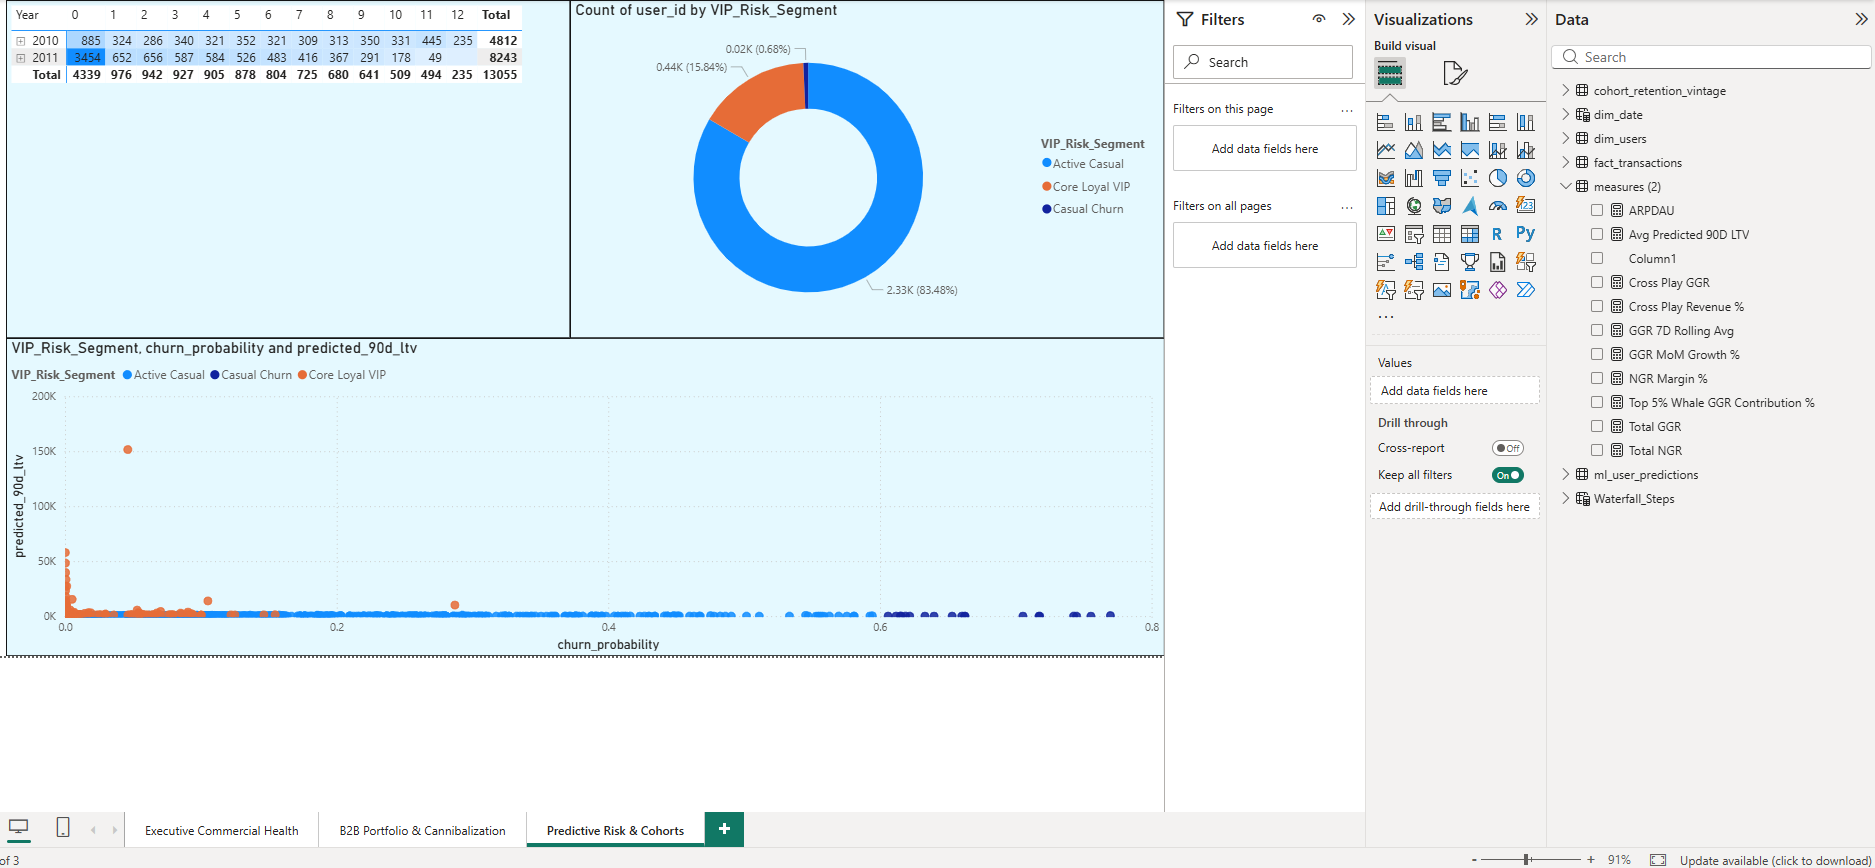

What the dashboard file says about the page in this screenshot:
{"tool":"powerbi","page":{"name":"Predictive Risk & Cohorts","canvas":[1280,720],"ordinal":2},"visuals":[{"type":"pivotTable","fields":{"Rows":["cohort_retention_vintage.cohort_month.Variation.Date Hierarchy.Year","cohort_retention_vintage.cohort_month.Variation.Date Hierarchy.Month","cohort_retention_vintage.cohort_month.Variation.Date Hierarchy.Day"],"Values":["Sum(cohort_retention_vintage.active_users)"],"Columns":["cohort_retention_vintage.life_month"]},"box":[9.8,0,618.9,370.7],"z":0},{"type":"scatterChart","fields":{"X":["ml_user_predictions.churn_probability"],"Y":["ml_user_predictions.predicted_90d_ltv"],"Series":["ml_user_predictions.VIP_Risk_Segment"]},"box":[9.8,370.7,1270.5,349.5],"z":1000},{"type":"donutChart","fields":{"Category":["ml_user_predictions.VIP_Risk_Segment"],"Y":["CountNonNull(ml_user_predictions.user_id)"]},"box":[628.7,0,651.6,370.7],"z":2000}]}

Visuals, with their boxes on the page's 1280x720 design canvas (x1, y1, x2, y2). These are canvas units, not pixel positions in the 1875x868 screenshot, which may show the page scaled, cropped or inside an application window:
pivotTable - cohort_retention_vintage.cohort_month.Variation.Date Hierarchy.Year x cohort_retention_vintage.cohort_month.Variation.Date Hierarchy.Month: <bbox>10, 0, 629, 371</bbox>
scatterChart - ml_user_predictions.churn_probability x ml_user_predictions.predicted_90d_ltv: <bbox>10, 371, 1280, 720</bbox>
donutChart - ml_user_predictions.VIP_Risk_Segment x CountNonNull(ml_user_predictions.user_id): <bbox>629, 0, 1280, 371</bbox>
